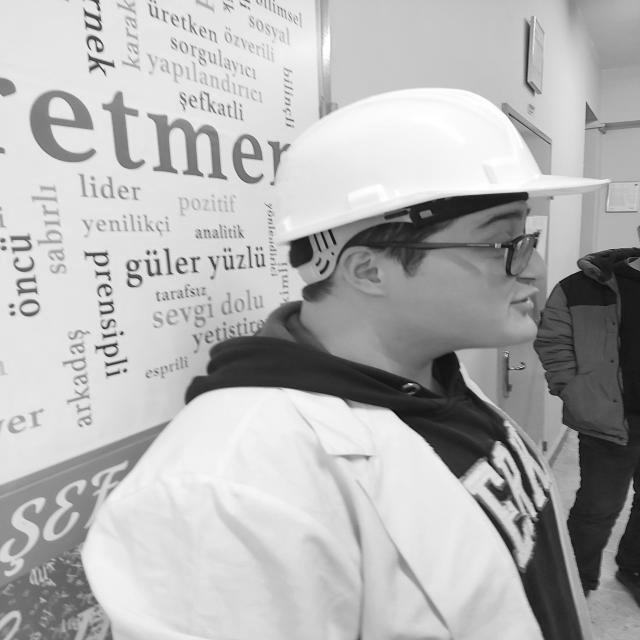construction helmet: (274, 88, 610, 284)
